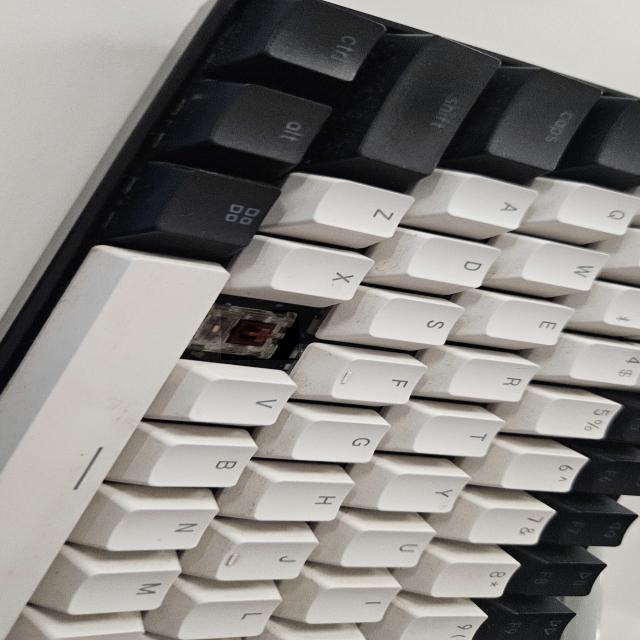C: (221, 310, 299, 360)
